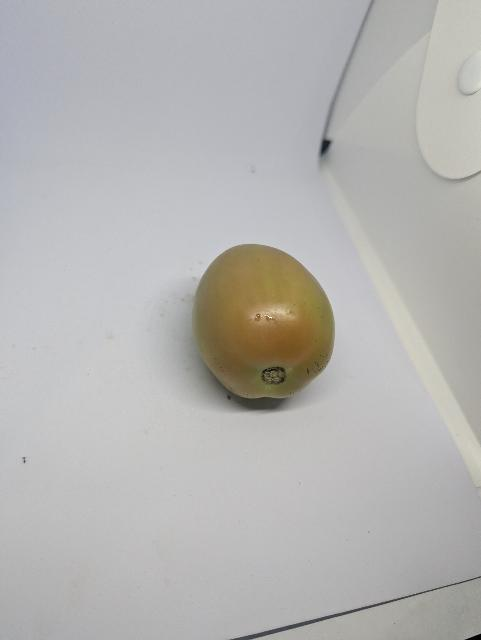breaker: (189, 236, 340, 407)
